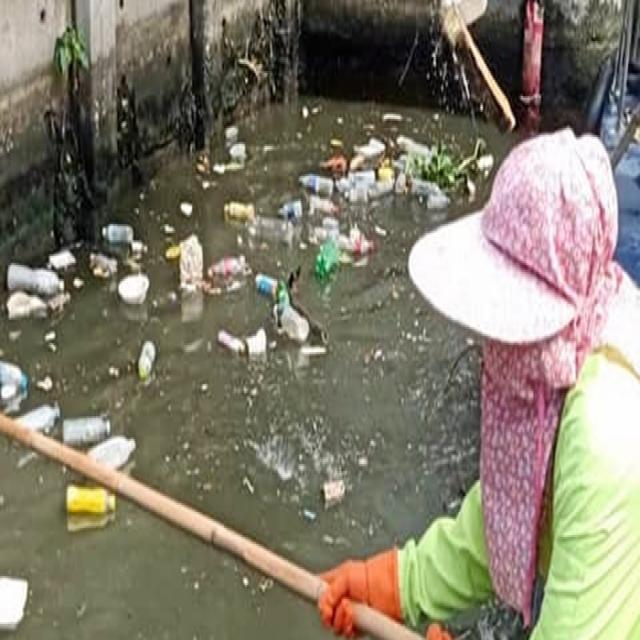-: (8, 341, 333, 640), (70, 290, 401, 505), (240, 153, 484, 323)
